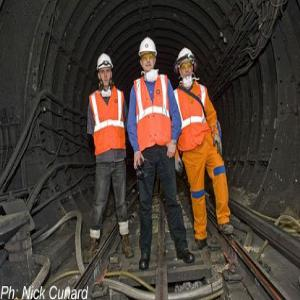white: (140, 38, 158, 75), (177, 48, 197, 81), (97, 54, 115, 86)
